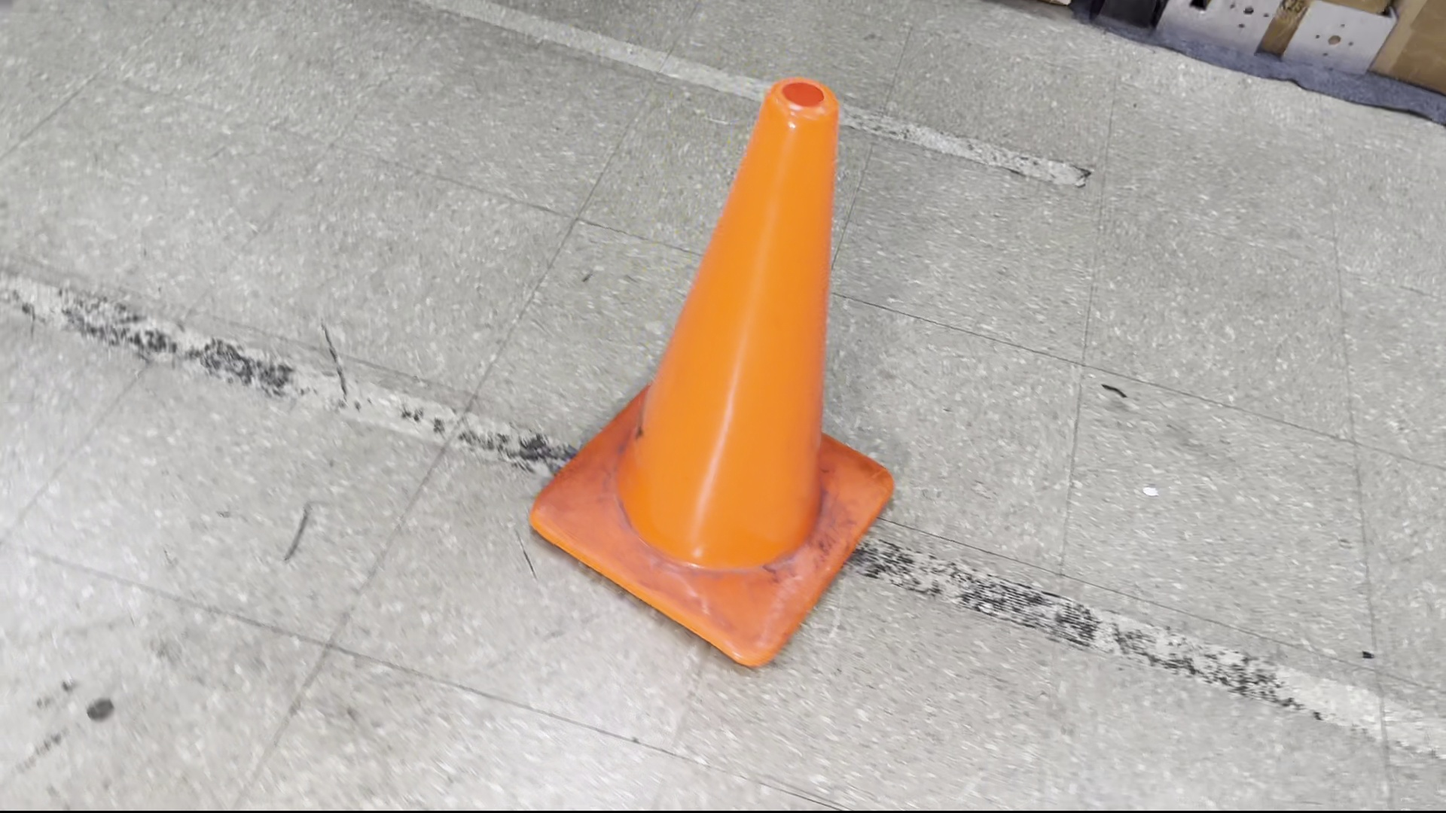traffic_cone: (528, 75, 895, 669)
